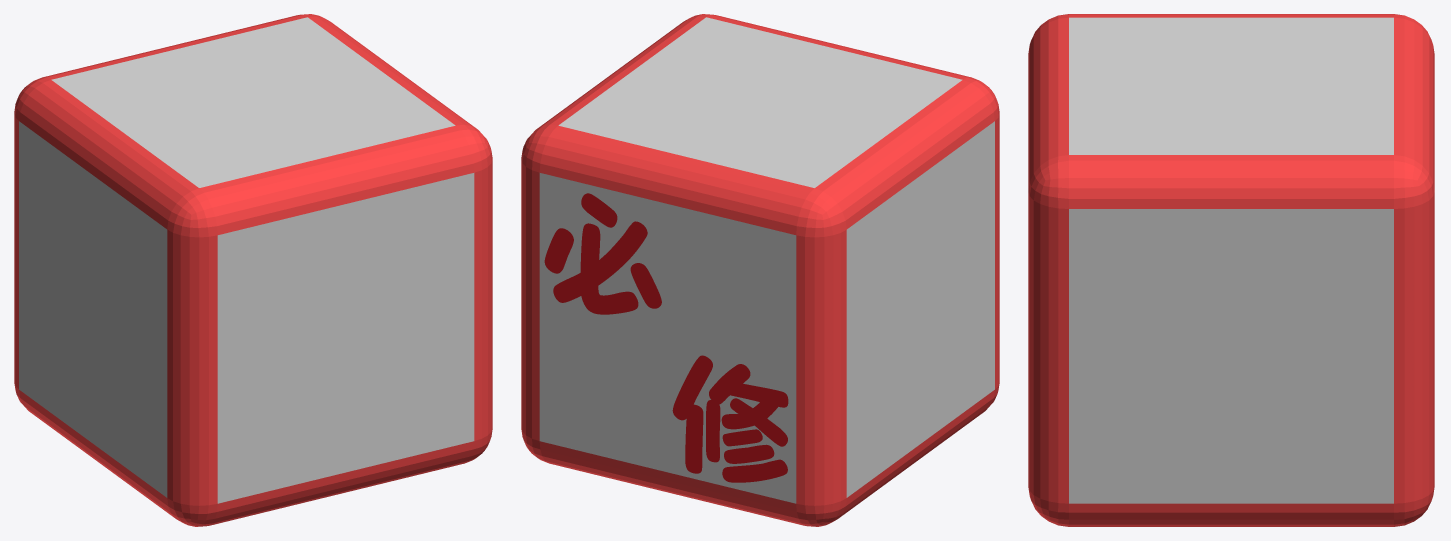
File: compulsory.fbx
3 renders of one model, left to right at view 1: azimuth 30°, elevation 25°; view 2: azimuth 150°, elevation 25°; view 3: azimuth 270°, elevation 25°, orthographic. The views are drawn at different scales.
Parts seen in each view (by area): view 1: Cube; view 2: Cube, テキスト; view 3: Cube.
Boxes of the visible parts, <box> form: Cube: <box>14,14,492,526</box>; Cube: <box>521,14,999,526</box>; テキスト: <box>544,193,788,482</box>; Cube: <box>1028,14,1434,526</box>.
Bounding box in the file's own units: 200 × 200 × 201.
